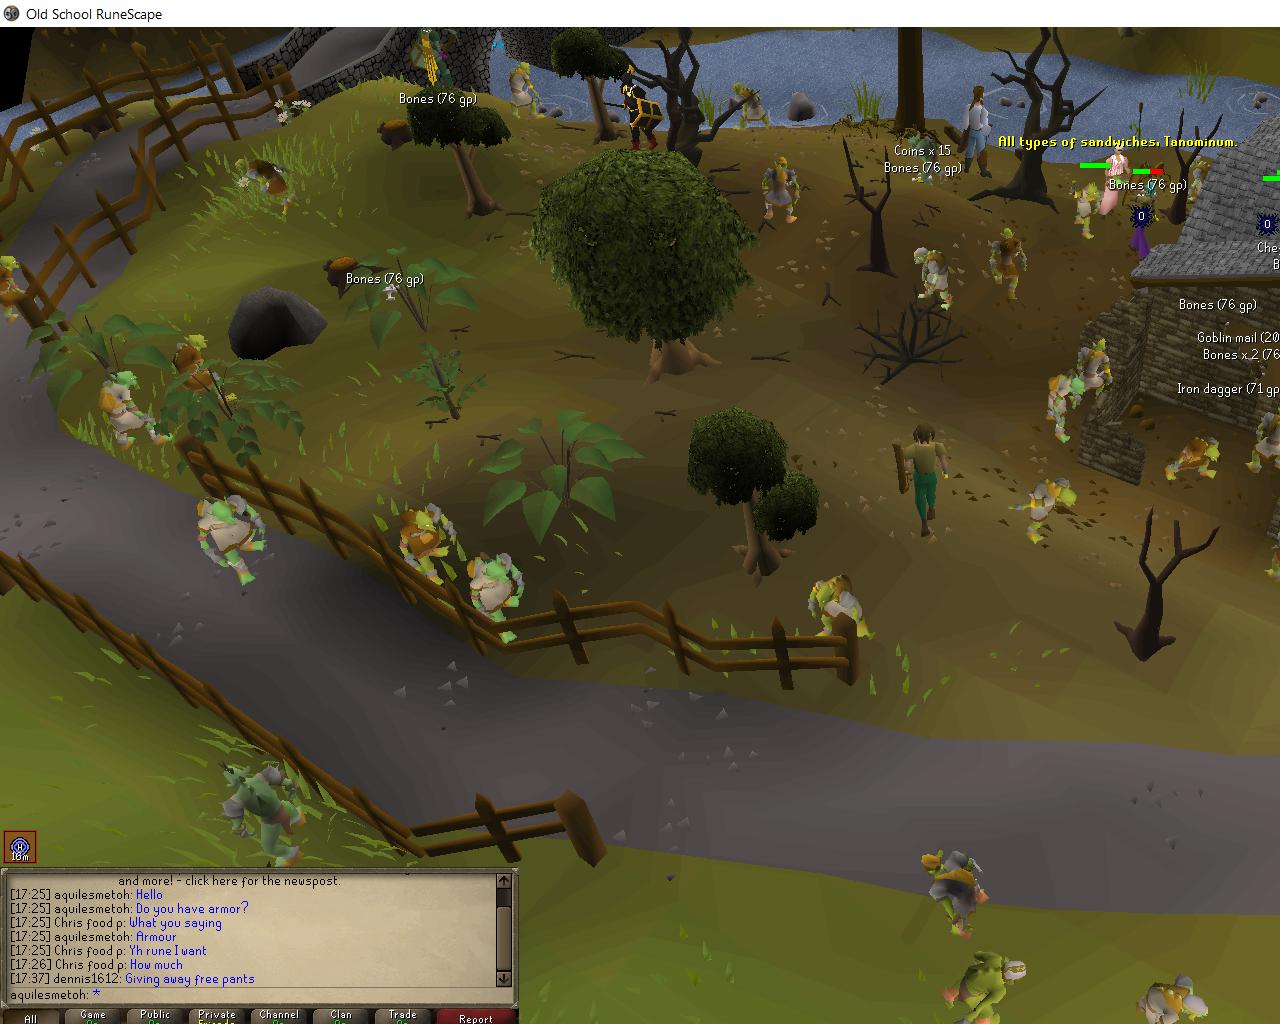Goblin: (211, 759, 315, 867), (193, 489, 289, 594), (453, 550, 543, 645), (913, 847, 996, 942), (389, 499, 470, 591), (159, 330, 250, 411), (98, 371, 179, 453), (944, 951, 1029, 1024), (805, 577, 891, 646), (1005, 474, 1084, 546), (232, 153, 309, 219), (1134, 967, 1219, 1024), (1038, 370, 1097, 447), (752, 156, 816, 227), (981, 225, 1040, 300), (910, 245, 965, 317), (1162, 430, 1226, 488), (1, 254, 47, 329), (1071, 334, 1118, 402), (505, 60, 549, 122), (1243, 410, 1280, 480), (727, 82, 770, 132)
